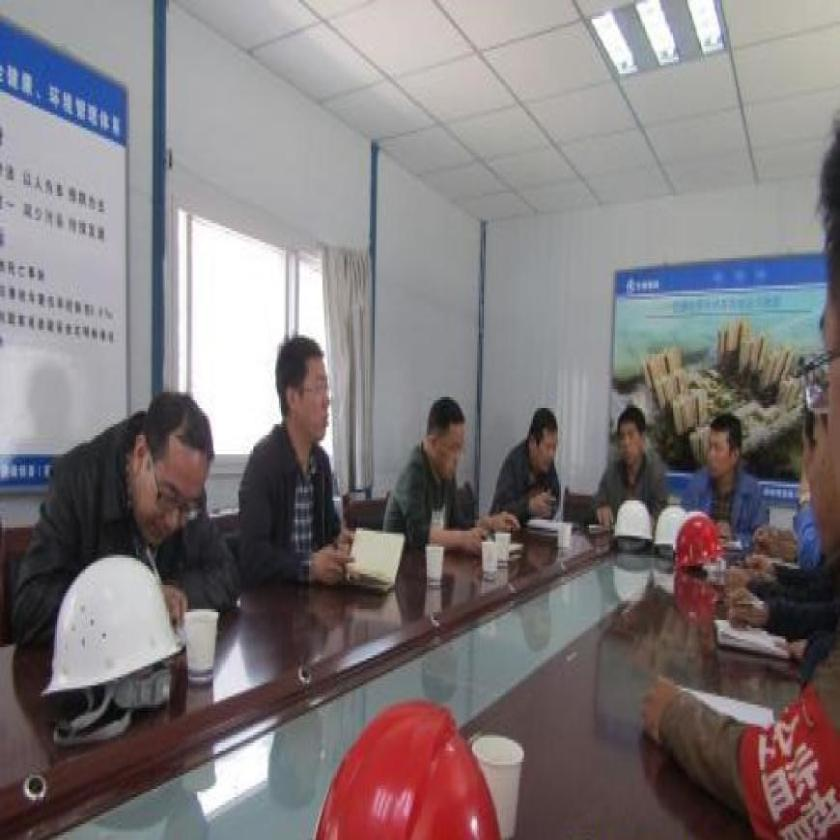Sin_casco: (127, 380, 220, 540), (812, 115, 840, 581), (271, 333, 336, 450), (796, 392, 840, 544), (423, 396, 472, 493), (524, 402, 563, 475), (704, 409, 741, 482), (615, 402, 650, 478)
